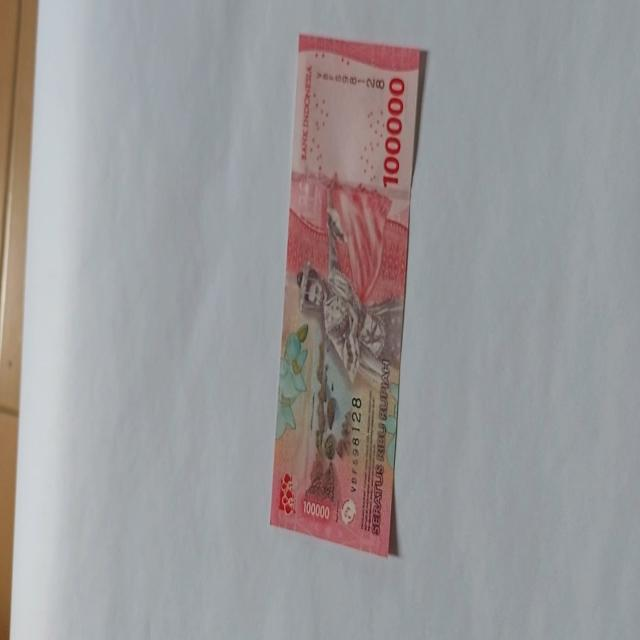seratus ribu rupiah: (268, 32, 426, 558), (296, 204, 390, 388)
